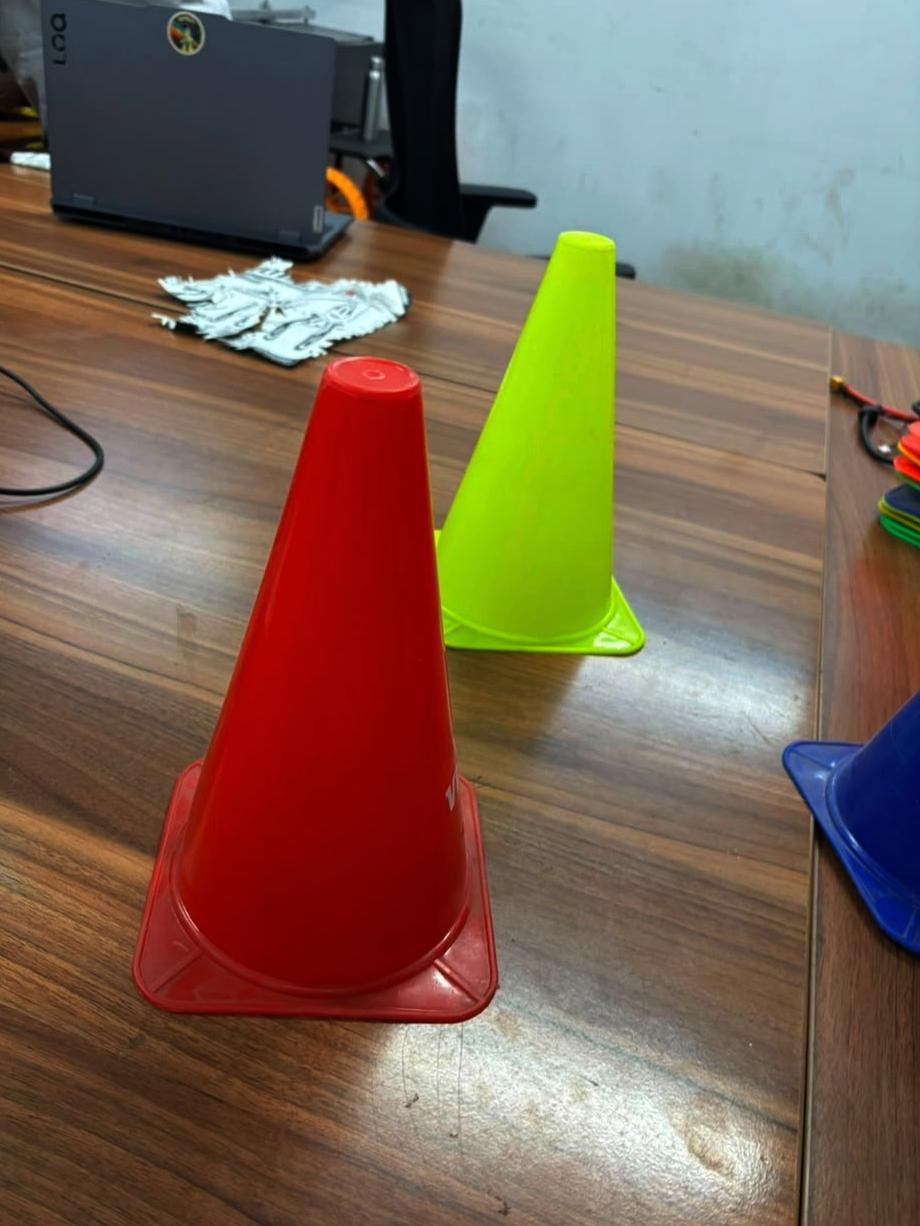0 cone: (133, 357, 496, 1021), (441, 233, 643, 654)
